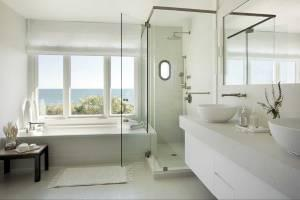window: (33, 51, 137, 116)
